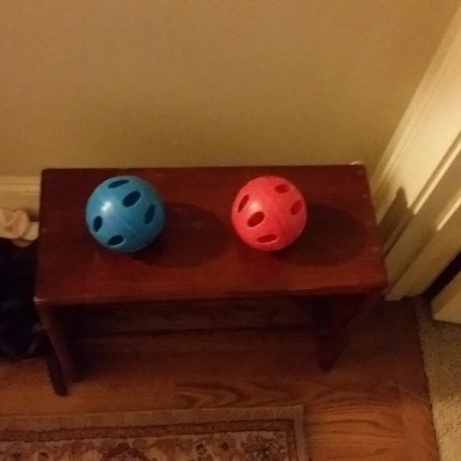ball: (82, 172, 169, 255), (229, 171, 310, 254)
